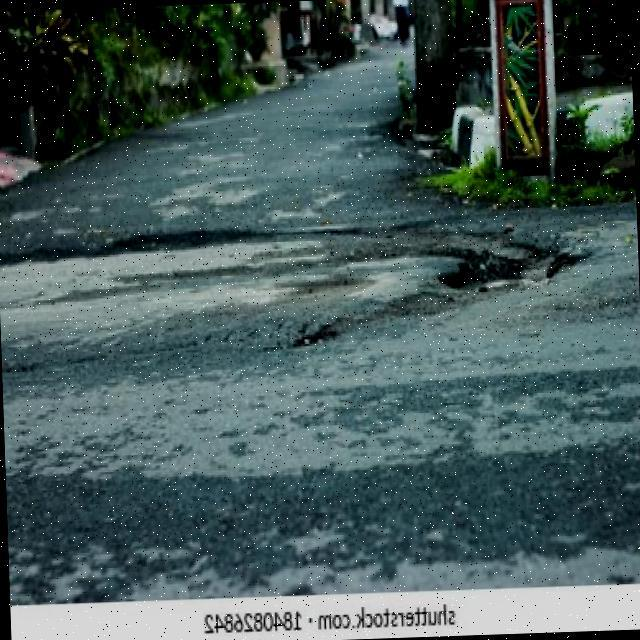Pothole: (0, 222, 571, 374)
